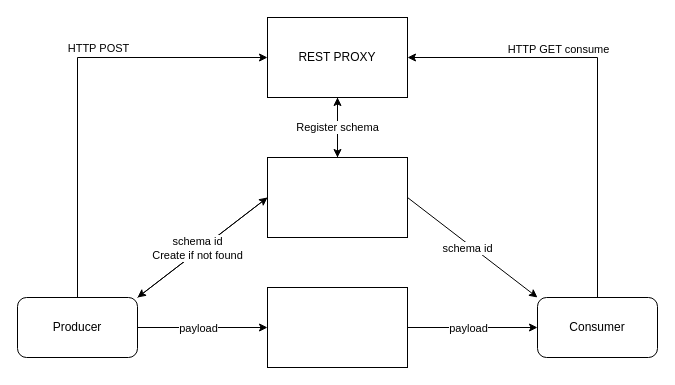
This 675x385 diagram has some shape labels left out. Each missing label, with the centre of its shape:
KAFKA CLUSTER: the point at 337,327
KAFKA SCHEMA REGISTRY: the point at 337,197
